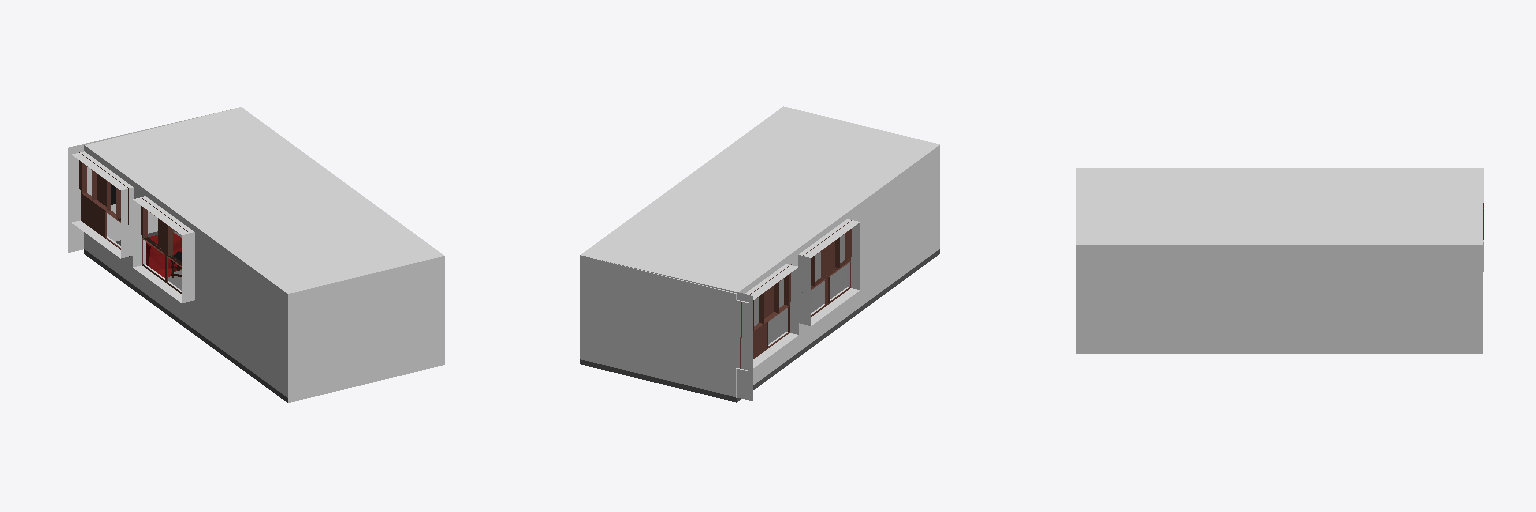
The model's file is vermeer.obj.
3 renders of one model, left to right at view 1: azimuth 30°, elevation 25°; view 2: azimuth 150°, elevation 25°; view 3: azimuth 270°, elevation 25°, orthographic.
Parts seen in each view (by area): view 1: Wall_White Room, Room WindowFrame_Close Window, Room Wall_Under, Room Window WindowFrame3, Room Desk2; view 2: Wall_White Room, Room Wall_Under, Room Floor, Room WindowFrame_Close Window, Room Window WindowFrame3; view 3: Wall_White Room.
Part boxes in pixels (x1,y1,x2,y2): Wall_White Room: (68,107,444,402); Room WindowFrame_Close Window: (79,152,129,256); Room Wall_Under: (84,230,287,402); Room Window WindowFrame3: (141,198,187,293); Room Desk2: (146,232,181,277); Wall_White Room: (580,106,939,400); Room Wall_Under: (580,249,939,402); Room Floor: (754,234,846,344); Room WindowFrame_Close Window: (740,264,791,368); Room Window WindowFrame3: (802,220,851,316); Wall_White Room: (1076,168,1483,353).
Bounding box in the file's own units: 5.19 × 3.17 × 10.6.